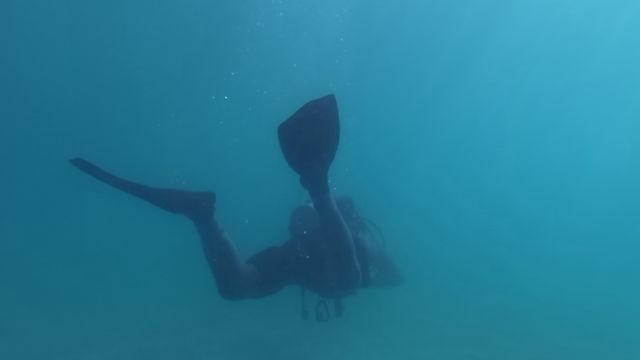Diver: (64, 79, 418, 329)
